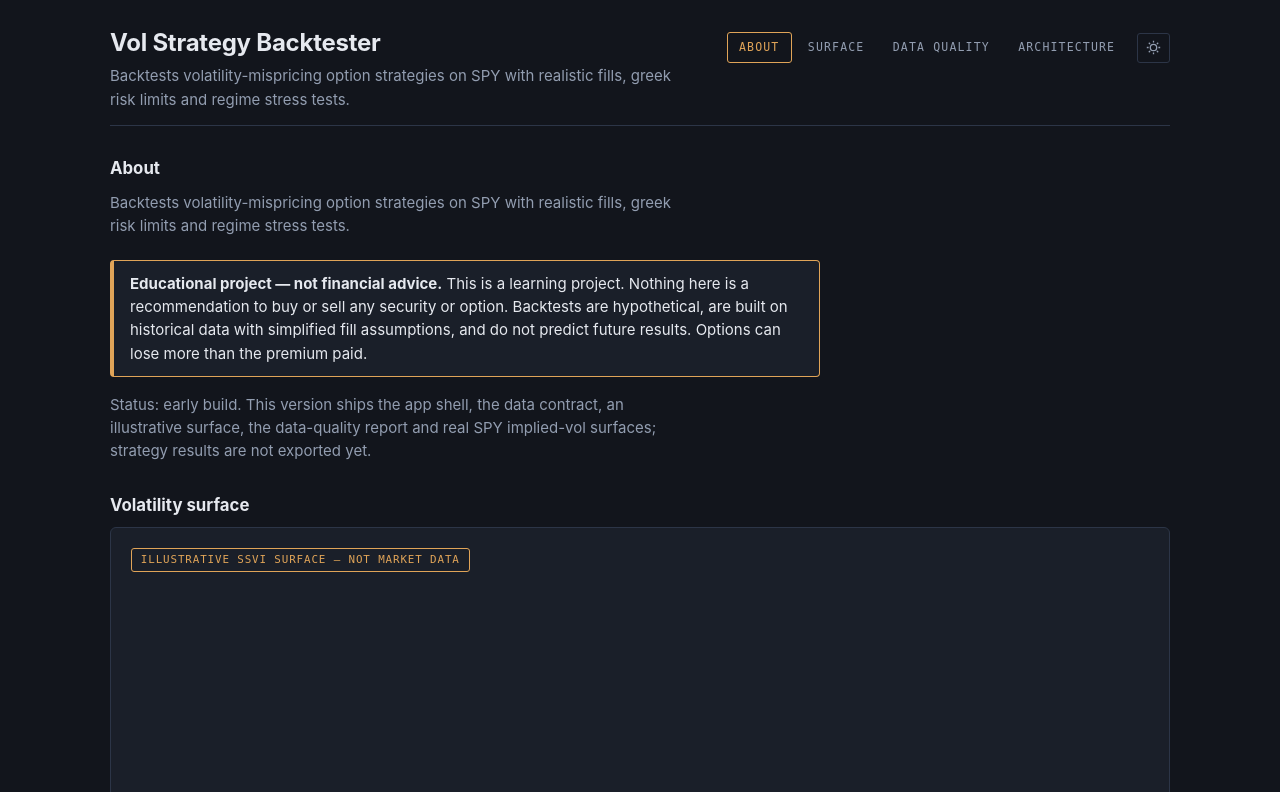
Test: App (integration) › navigates to the Surface tab, which draws the real surfaces without refetching
The image size is (1280, 792).
Check: the text "Illustrative SSVI surface — not market data" is shown, box [131,548,470,572]
Click the link "Surface" at (836, 47), box [808,40,864,54]
(page scrolled)
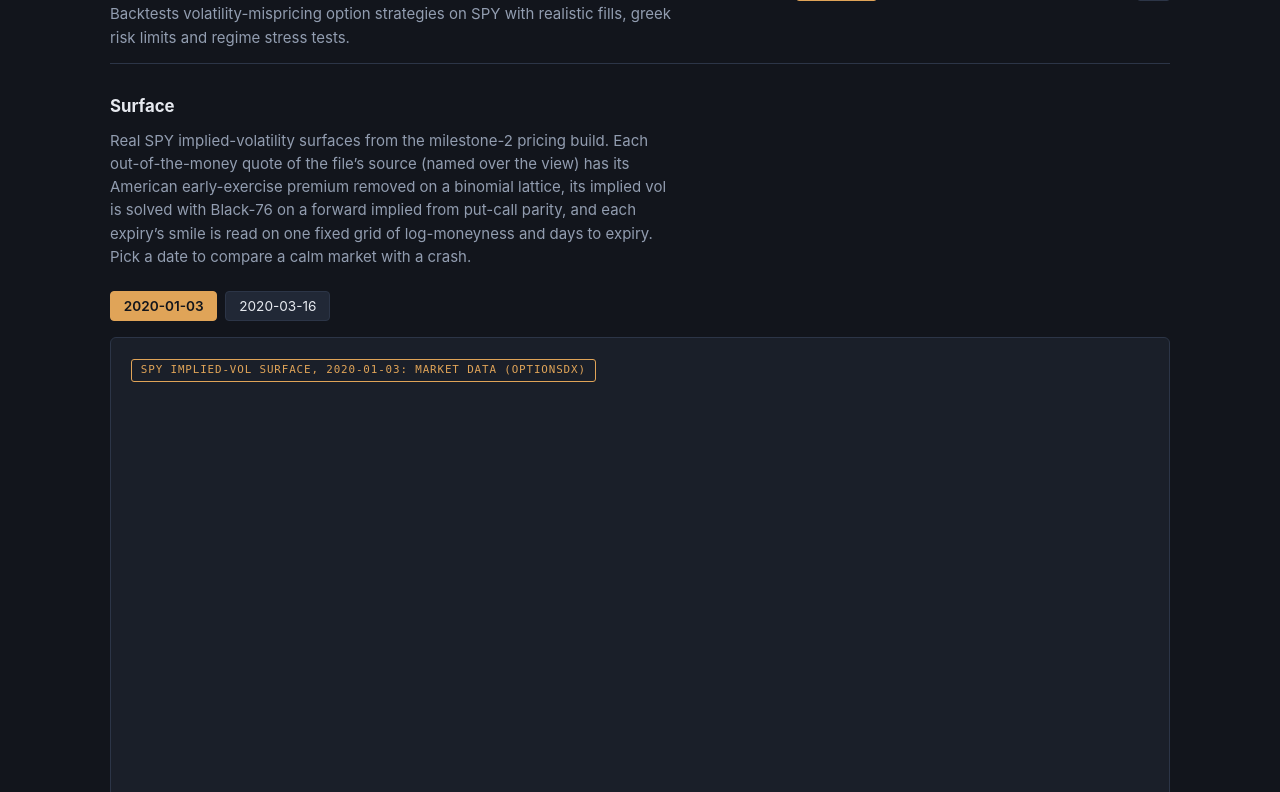
Check: the heading "Surface" is shown, box [110,96,175,116]
Check: the text "SPY implied-vol surface, 2020-01-03: market data (OptionsDX)" is shown, box [131,359,596,382]
Check: the text "Illustrative SSVI surface — not market data" is gone
